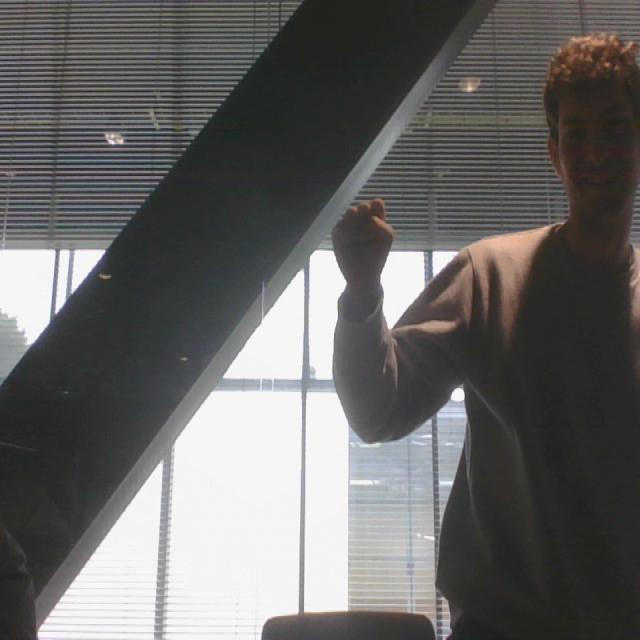stop: (328, 195, 397, 294)
